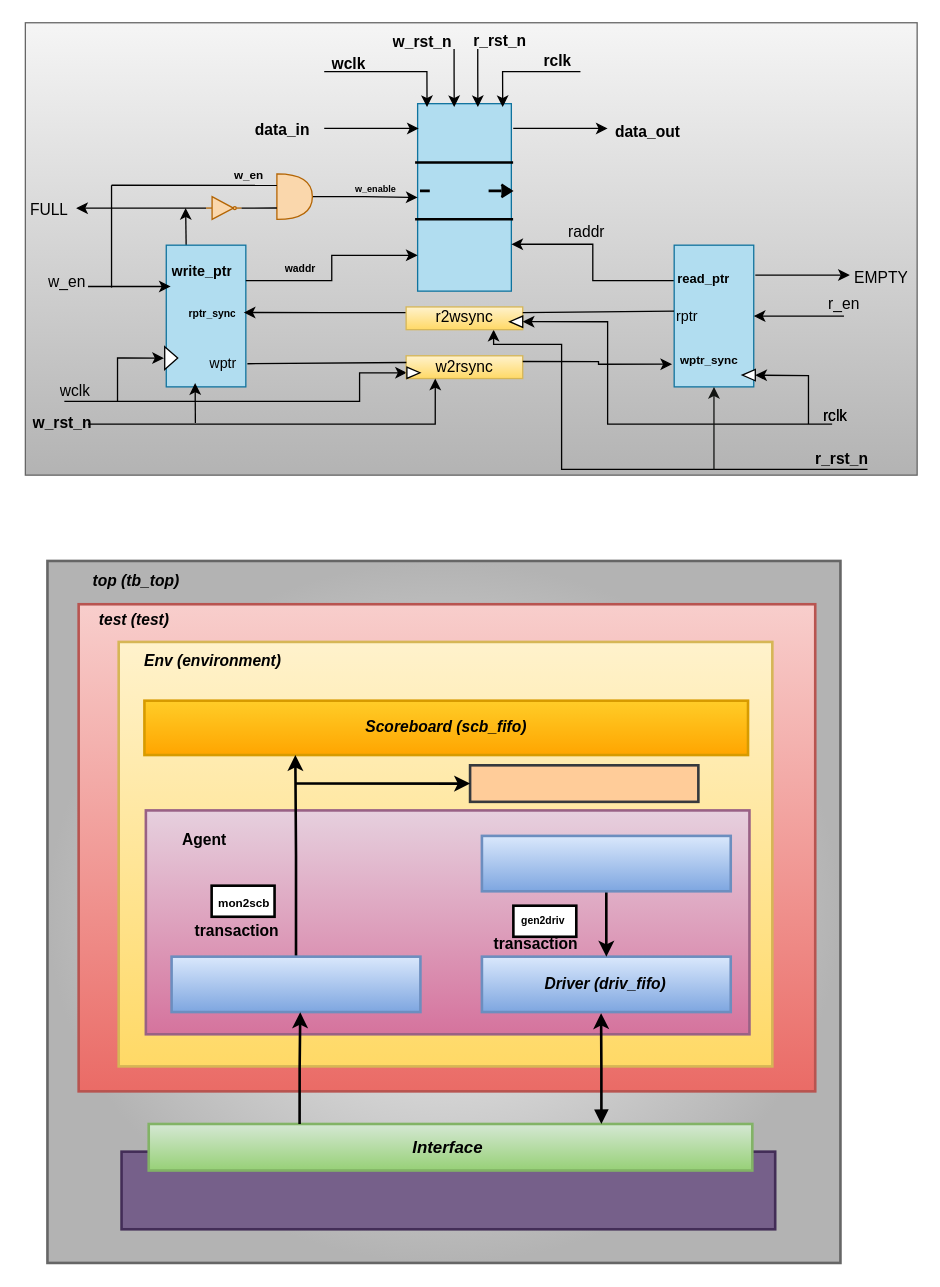
The diagram is 940 pixels wide and 1287 high, and some of its shapes have lost their labels. Each missing label, with the centre of its shape:
"Coverage" belongs at point 583,782.
"DUT (Design Under Test)" belongs at point 448,1190.
"FIFO" belongs at point 463,190.
"Generator (gen_fifo)" belongs at point 605,863.
"Monitor (mon_fifo)" belongs at point 295,984.
